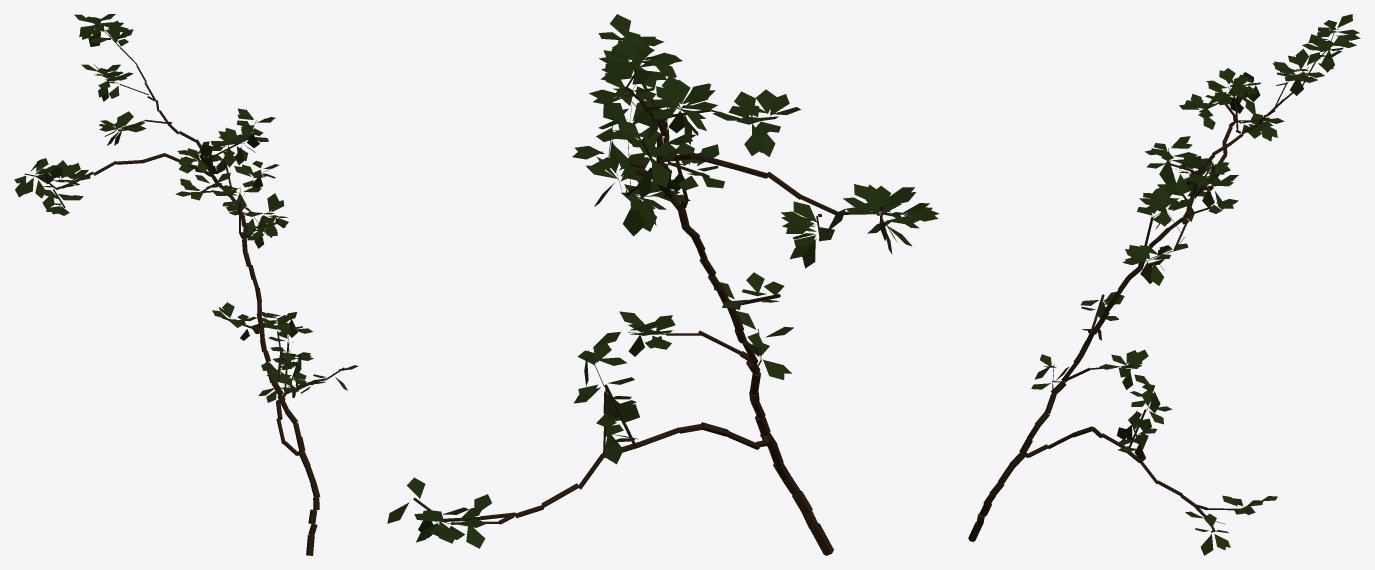
File: 2022_tree_479.obj
The picture shows the model from 3 angles, left to right: view 1: azimuth 30°, elevation 25°; view 2: azimuth 150°, elevation 25°; view 3: azimuth 270°, elevation 25°; orthographic projection. The views are drawn at different scales.
Parts seen in each view (by area): view 1: Leaves, TrunkAndBranches; view 2: Leaves, TrunkAndBranches; view 3: Leaves, TrunkAndBranches.
Boxes of the visible parts, box(x1,y1,x2,y2) form: Leaves: box(14, 14, 358, 402); TrunkAndBranches: box(24, 23, 344, 555); Leaves: box(387, 14, 939, 548); TrunkAndBranches: box(413, 55, 901, 555); Leaves: box(1031, 14, 1360, 555); TrunkAndBranches: box(968, 28, 1335, 541).
Size of the model in its own units: 5.09 by 6.54 by 4.73.
